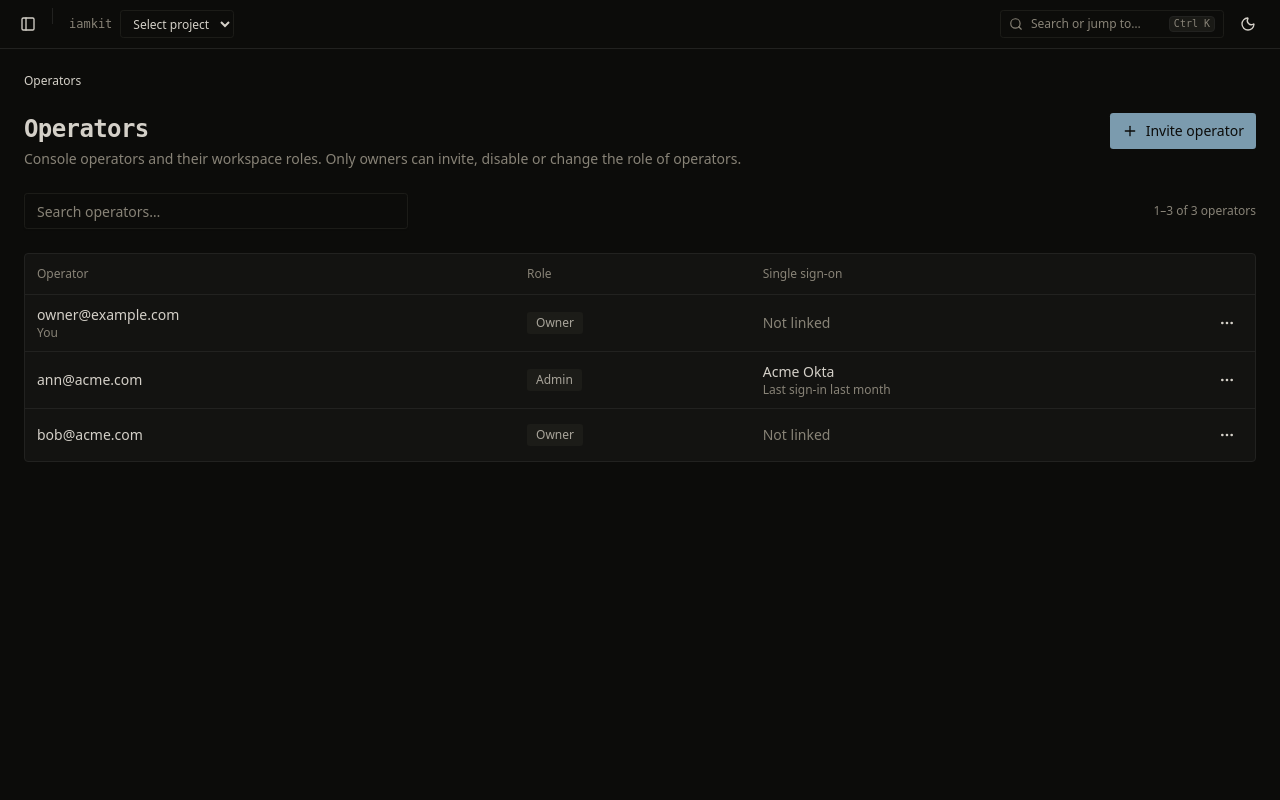
Test: hides disabled operators and reactivates one by inviting the same email
The image size is (1280, 800).
Expected: the text "ann@acme.com" is shown, 37,370 -> 142,388
Expected: the text "cid@acme.com" is not shown
Click the button "Invite operator" at {"x": 1183, "y": 131}, box 1110,113 -> 1256,149
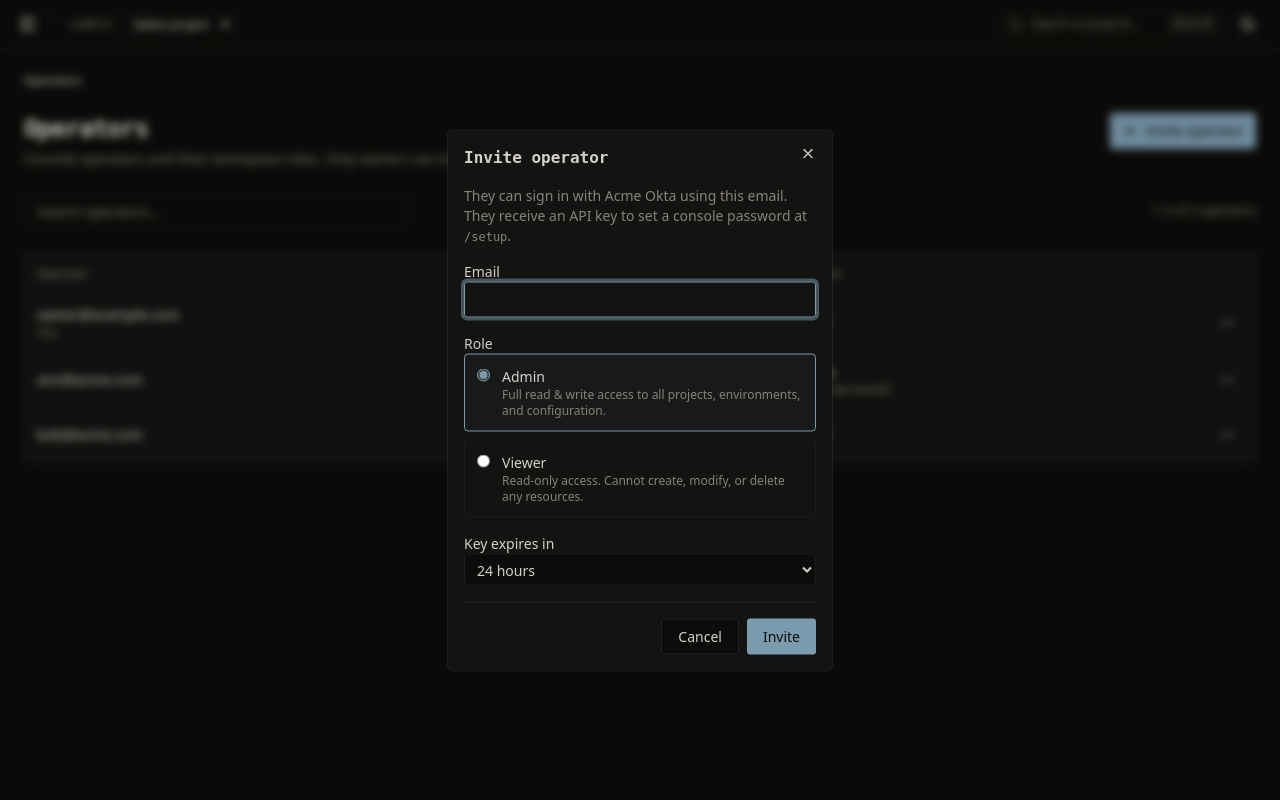
Type "CID@acme.com" into the field labelled "Email" at {"x": 640, "y": 300}, box 464,282 -> 816,318
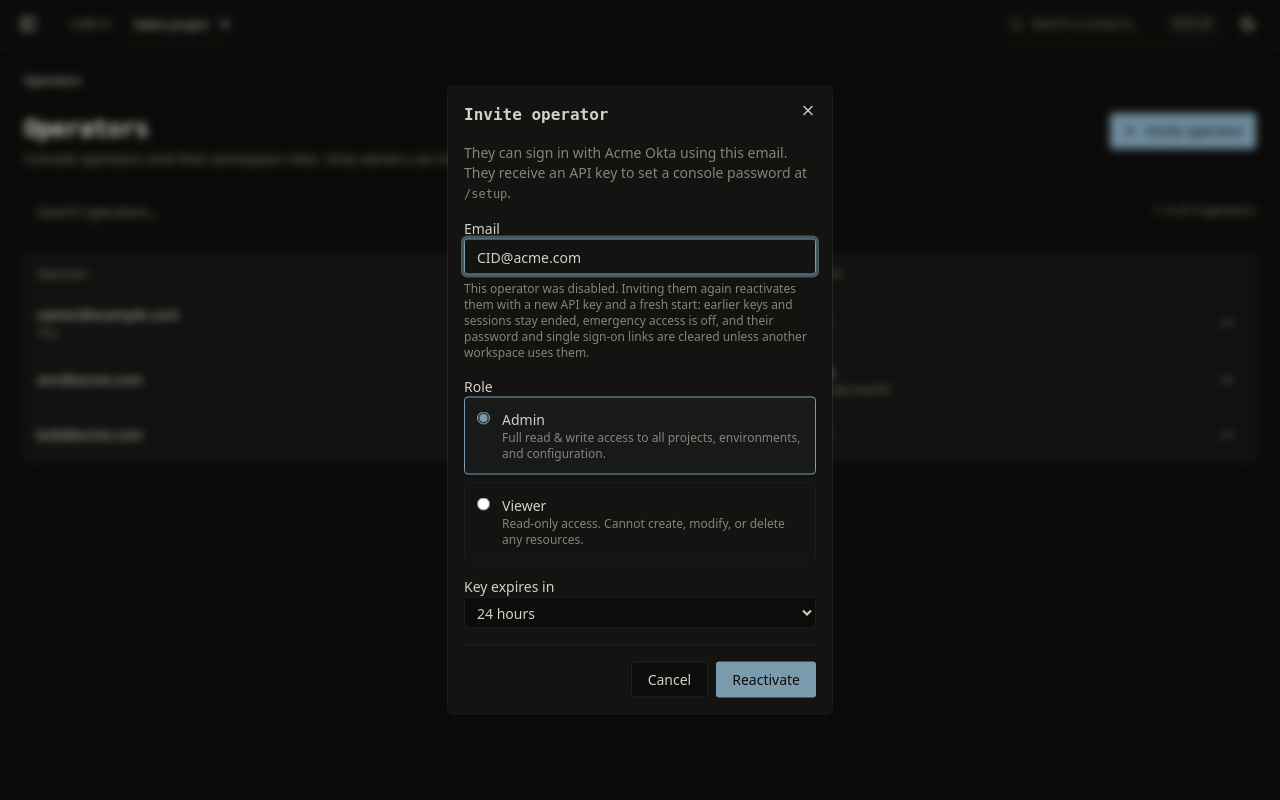
Expected: the message shows "was disabled", 464,280 -> 807,360
Click the radio button labelled "Viewer" at {"x": 484, "y": 504}, box 477,498 -> 490,510
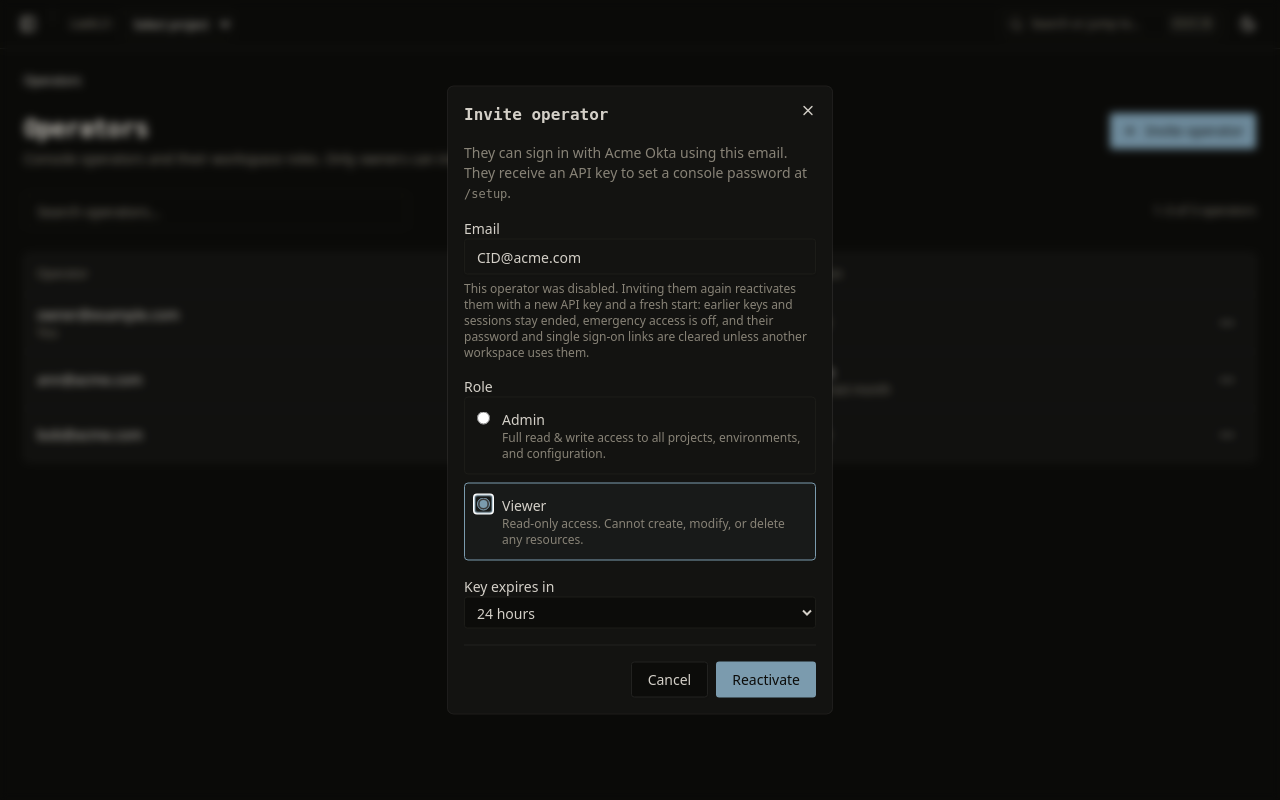
Click the button "Reactivate" at {"x": 766, "y": 680}, box 716,662 -> 816,698
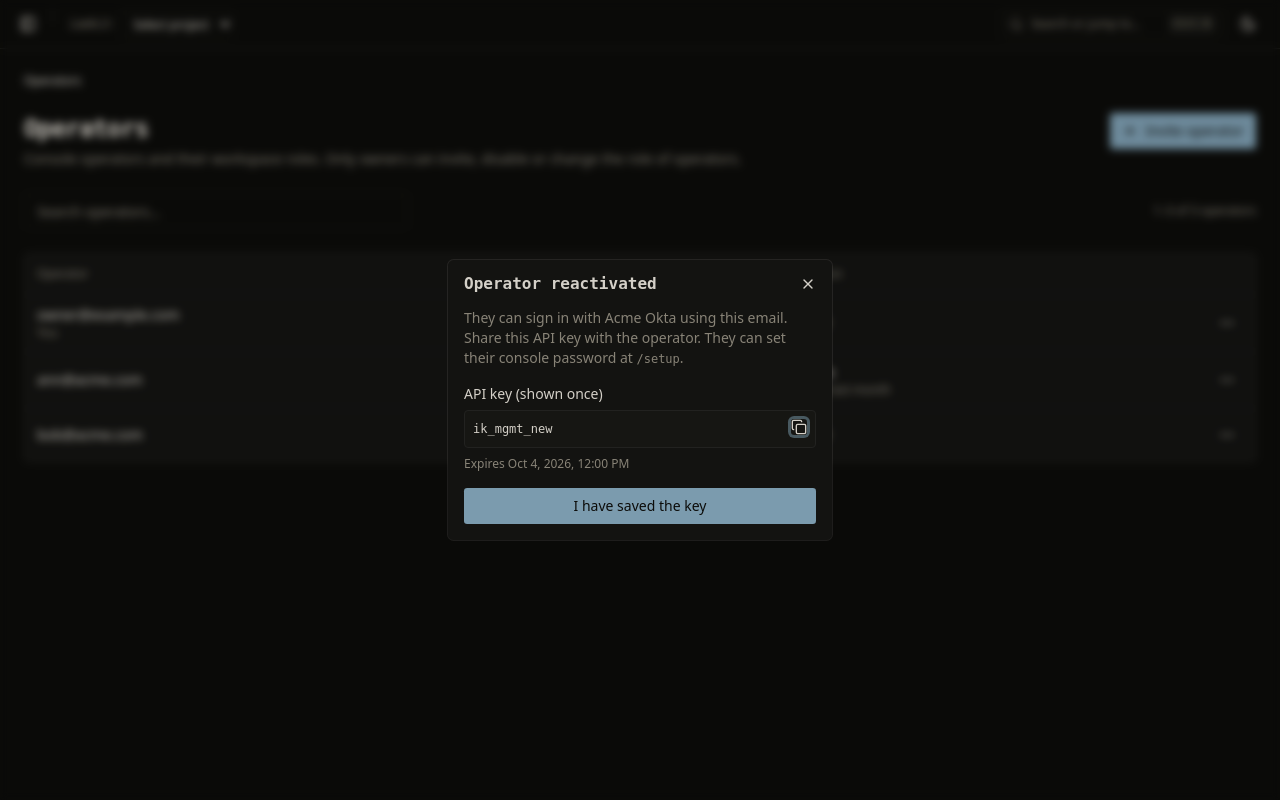
Expected: the heading "Operator reactivated" is shown, 464,274 -> 657,293
